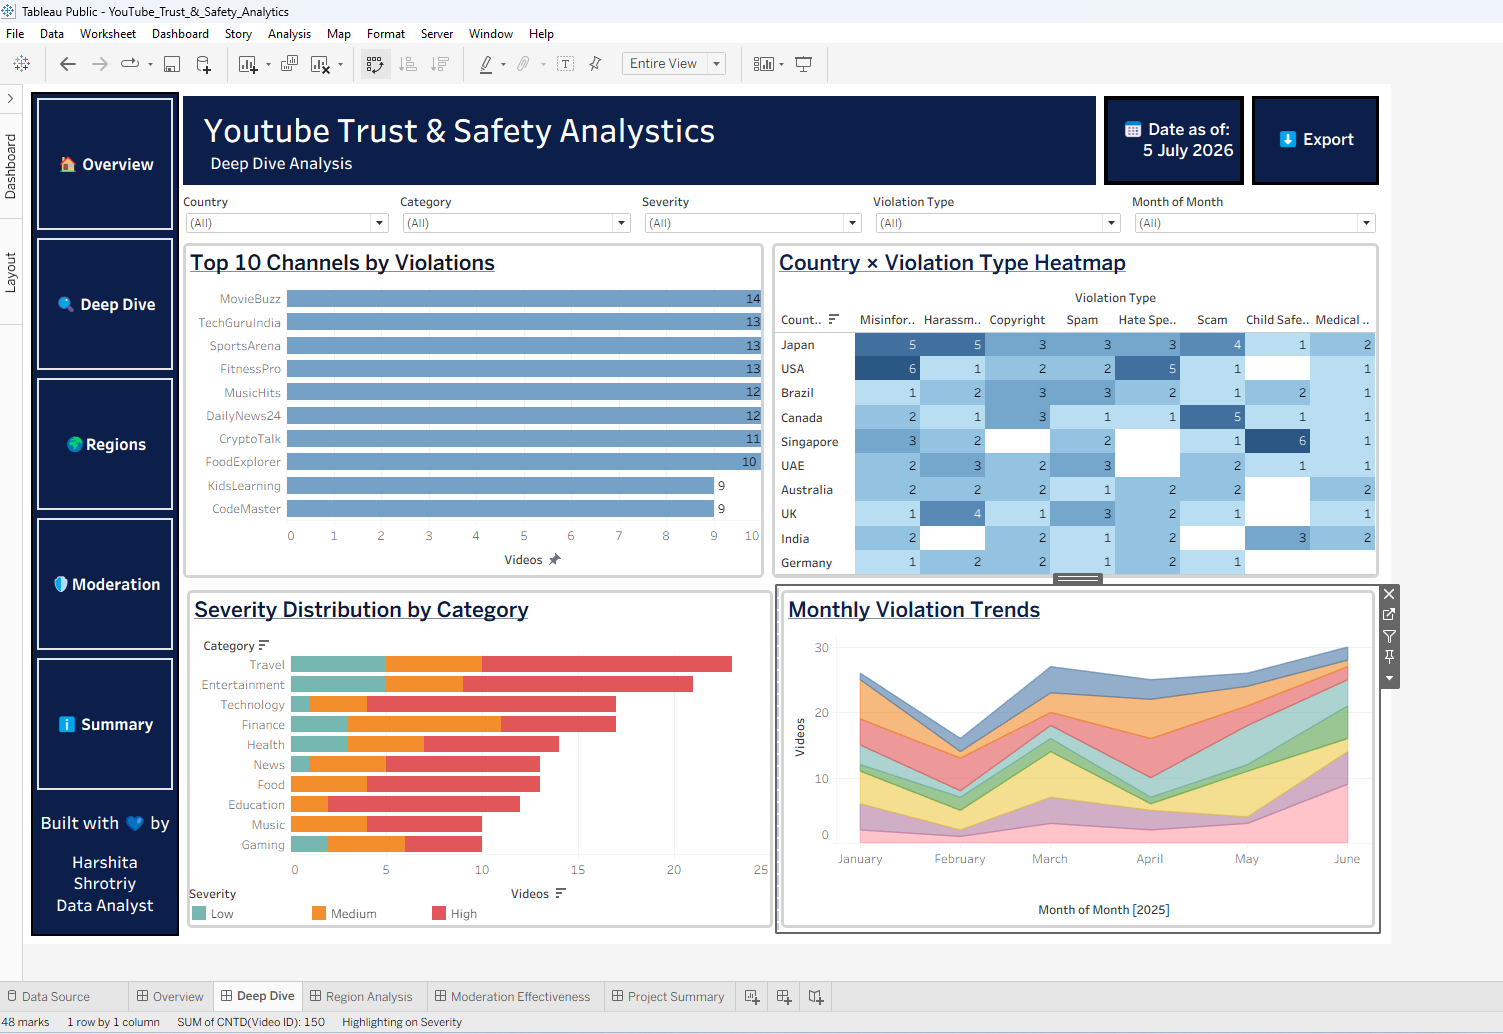

The dashboard page shown, as its layout file describes it:
{"tool":"tableau","page":{"name":"Deep Dive","canvas":[1368,860],"ordinal":2},"visuals":[{"type":"text","box":[143.5,8,933.5,97]},{"type":"text","box":[1077,8,148,97]},{"type":"text","box":[1225,8,135,97]},{"type":"dashboard-object","box":[10,10,131,140]},{"type":"filter","title":"Country Violation Heatmap","param":"[federated.00ehc49100lf2u1d2snlt14ci4es].[none:Country:nk]","box":[143.5,105,229.5,50]},{"type":"filter","title":"Country Violation Heatmap","param":"[federated.00ehc49100lf2u1d2snlt14ci4es].[none:Category:nk]","box":[373,105,242,50]},{"type":"filter","title":"Country Violation Heatmap","param":"[federated.00ehc49100lf2u1d2snlt14ci4es].[none:Severity:nk]","box":[615,105,231,50]},{"type":"filter","title":"Country Violation Heatmap","param":"[federated.00ehc49100lf2u1d2snlt14ci4es].[none:Violation_Type:nk]","box":[846,105,259,50]},{"type":"filter","title":"Country Violation Heatmap","param":"[federated.00ehc49100lf2u1d2snlt14ci4es].[mn:Upload Date (copy)_1500305030254592","box":[1105,105,255,50]},{"type":"dashboard-object","box":[10,150,131,140]},{"type":"worksheet","title":"Top 10 channels","mark":"Automatic","rows":["Channel_Name"],"cols":["Video_ID"],"box":[143.5,155,595.5,343]},{"type":"worksheet","title":"Country Violation Heatmap","mark":"Square","rows":["Country"],"cols":["Violation_Type"],"box":[739,155,621,343]},{"type":"dashboard-object","box":[10,290,131,140]},{"type":"dashboard-object","box":[10,430,131,140]},{"type":"worksheet","title":"Severity by Category","mark":"Automatic","rows":["Category"],"cols":["Video_ID"],"box":[147.5,502,594,346]},{"type":"worksheet","title":"Violation Type Trend","mark":"Area","rows":["Video_ID"],"cols":["Upload Date (copy)_1500305030254592"],"box":[741.5,502,614.5,346]},{"type":"dashboard-object","box":[10,570,131,140]},{"type":"text","box":[10,710,131,140]},{"type":"legend","title":"Severity by Category","param":"[federated.00ehc49100lf2u1d2snlt14ci4es].[none:Severity:nk]","box":[166,801,432,50]}]}

Visuals, with their boxes on the page's 1368x860 design canvas (x1, y1, x2, y2). These are canvas units, not pixel positions in the 1503x1034 screenshot, which may show the page scaled, cropped or inside an application window:
text: pyautogui.locateOnScreen(144, 8, 1077, 105)
text: pyautogui.locateOnScreen(1077, 8, 1225, 105)
text: pyautogui.locateOnScreen(1225, 8, 1360, 105)
dashboard-object: pyautogui.locateOnScreen(10, 10, 141, 150)
"Country Violation Heatmap" filter: pyautogui.locateOnScreen(144, 105, 373, 155)
"Country Violation Heatmap" filter: pyautogui.locateOnScreen(373, 105, 615, 155)
"Country Violation Heatmap" filter: pyautogui.locateOnScreen(615, 105, 846, 155)
"Country Violation Heatmap" filter: pyautogui.locateOnScreen(846, 105, 1105, 155)
"Country Violation Heatmap" filter: pyautogui.locateOnScreen(1105, 105, 1360, 155)
dashboard-object: pyautogui.locateOnScreen(10, 150, 141, 290)
"Top 10 channels" worksheet: pyautogui.locateOnScreen(144, 155, 739, 498)
"Country Violation Heatmap" worksheet (Square marks): pyautogui.locateOnScreen(739, 155, 1360, 498)
dashboard-object: pyautogui.locateOnScreen(10, 290, 141, 430)
dashboard-object: pyautogui.locateOnScreen(10, 430, 141, 570)
"Severity by Category" worksheet: pyautogui.locateOnScreen(148, 502, 742, 848)
"Violation Type Trend" worksheet (Area marks): pyautogui.locateOnScreen(742, 502, 1356, 848)
dashboard-object: pyautogui.locateOnScreen(10, 570, 141, 710)
text: pyautogui.locateOnScreen(10, 710, 141, 850)
"Severity by Category" legend: pyautogui.locateOnScreen(166, 801, 598, 851)
